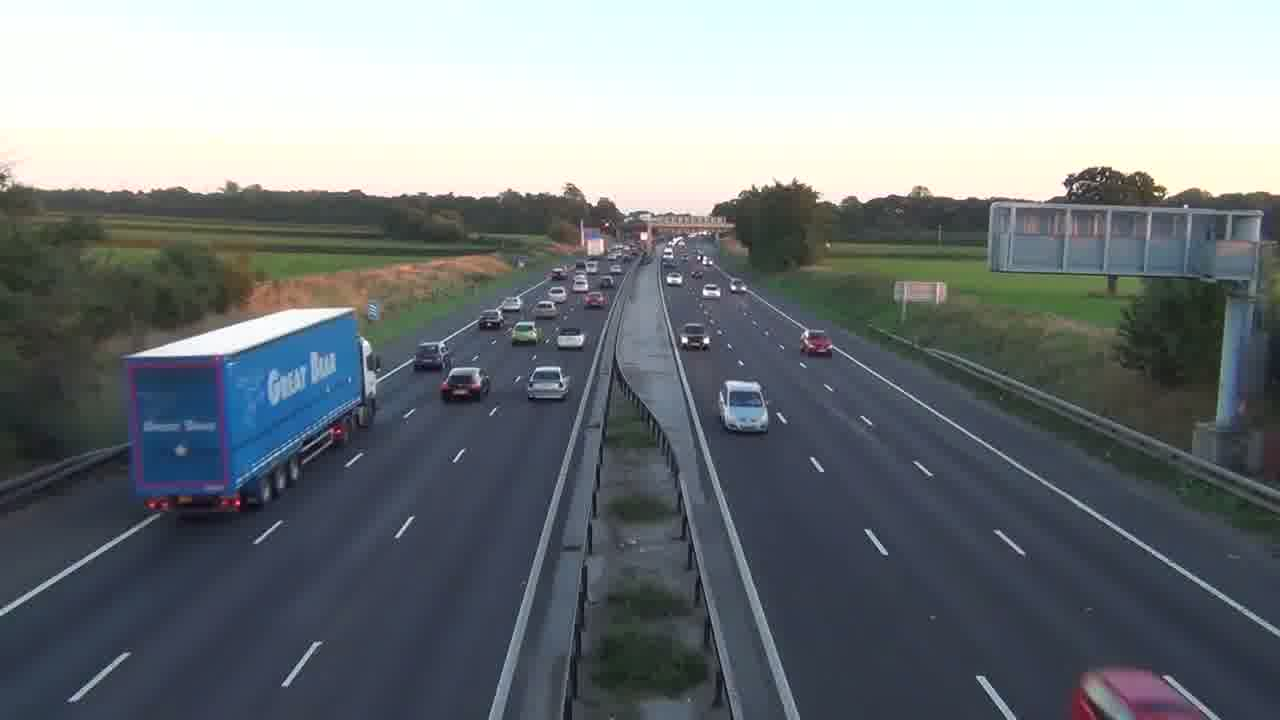car: (1067, 664, 1222, 719), (717, 379, 770, 434), (526, 365, 570, 401), (414, 340, 448, 372), (679, 322, 710, 351), (800, 329, 832, 356), (510, 320, 541, 346), (556, 328, 586, 350), (478, 308, 505, 330), (583, 291, 608, 309), (702, 283, 721, 297)
truck: (122, 305, 373, 515)
